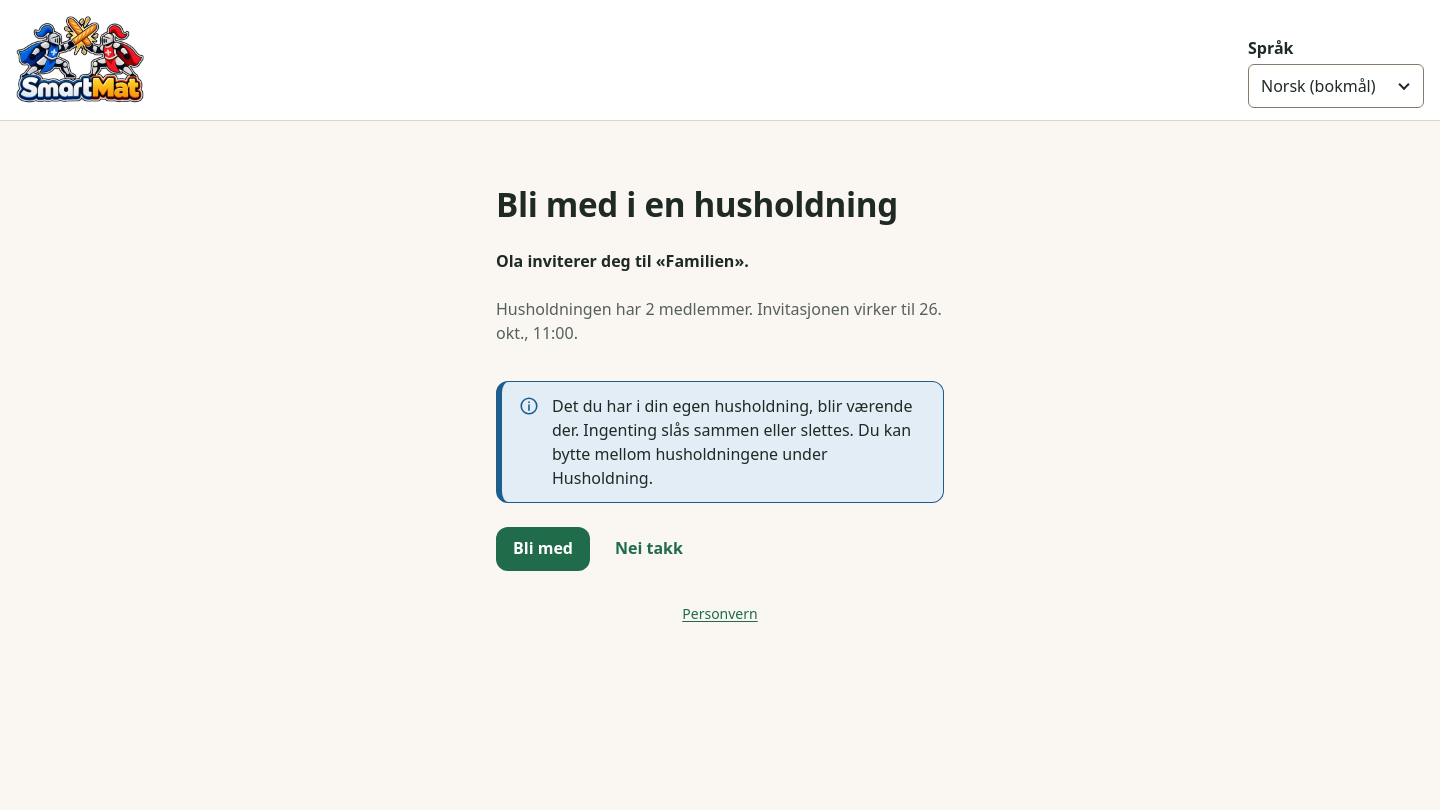
it: FR-HH-002 join page › nothing happens before "Bli med"; then it joins and forgets the token
Expected: the text "Ola inviterer deg til «Familien»." is shown, [496,250,749,272]
Click the button "Bli med" at (543, 549), box [496,527,590,571]
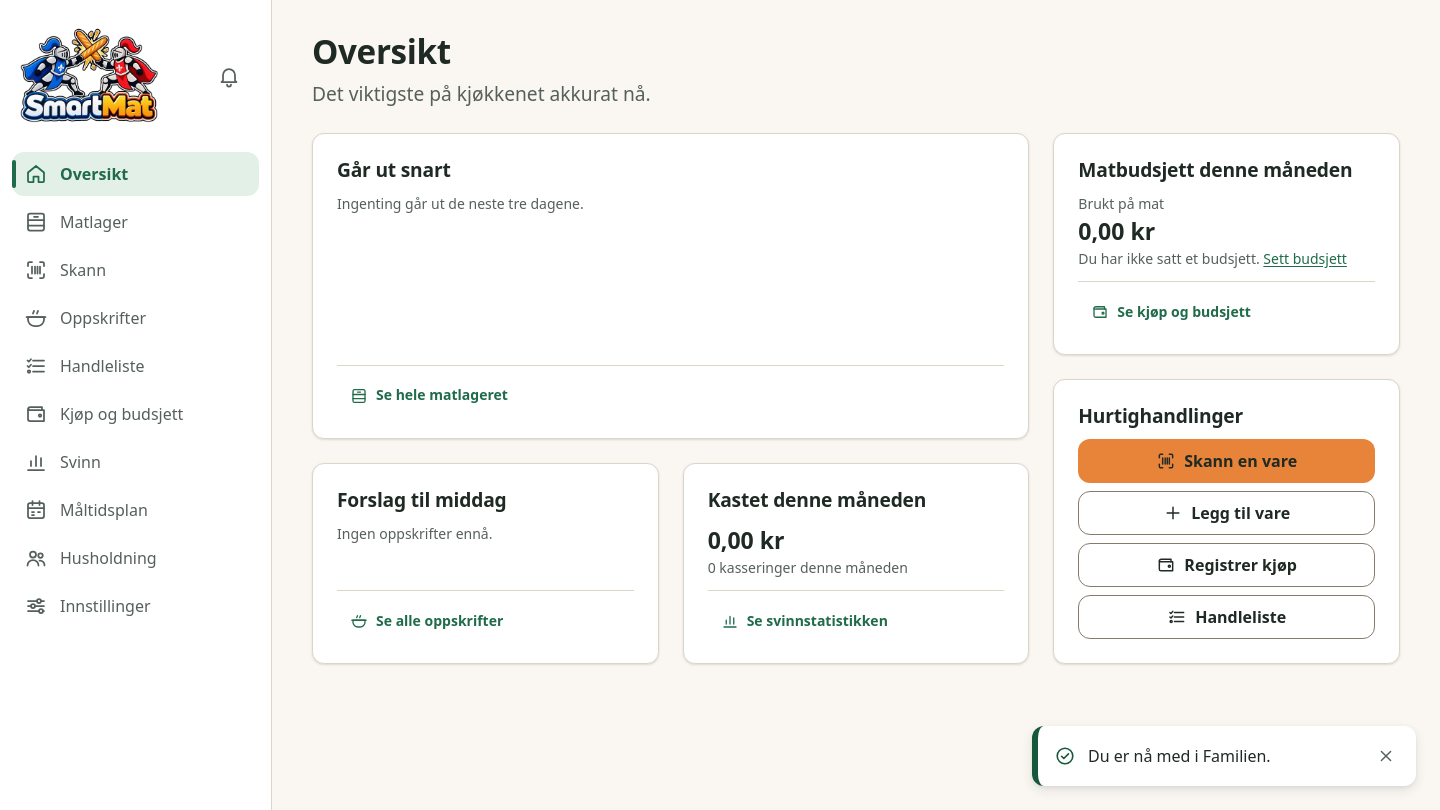
Result: the text "Du er nå med i Familien." is shown at [1087,744,1271,767]
